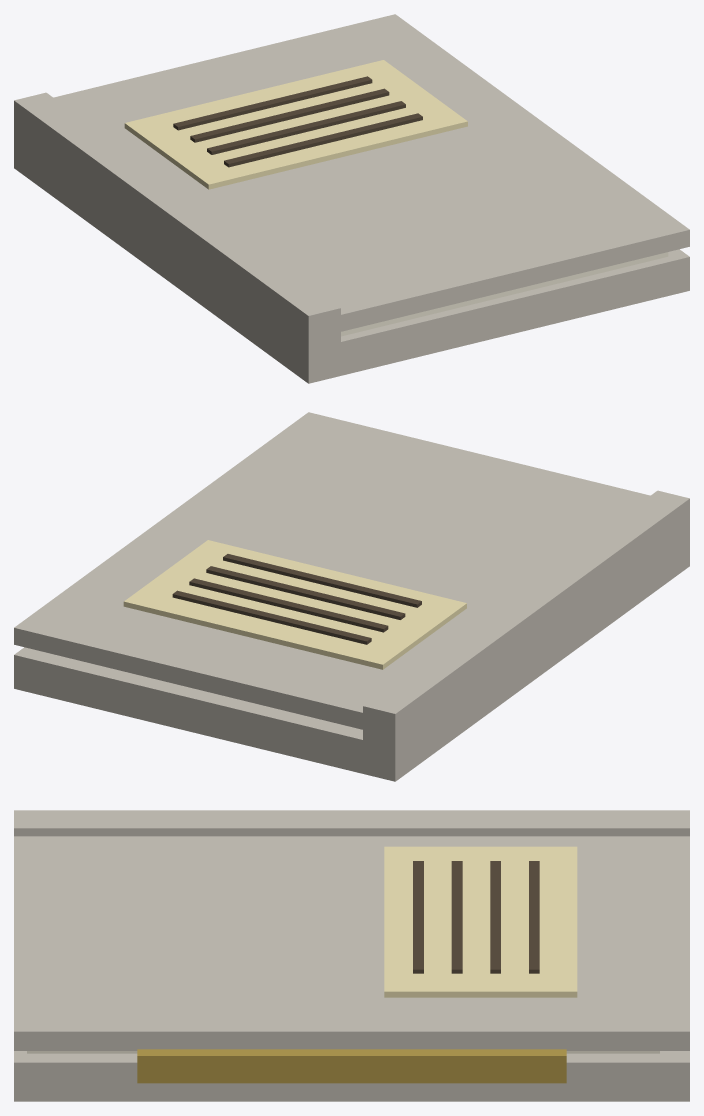
Rendered from folder.glb.
3 renders of one model, top to bottom at view 1: azimuth 30°, elevation 25°; view 2: azimuth 150°, elevation 25°; view 3: azimuth 270°, elevation 25°, orthographic. The views are drawn at different scales.
Parts seen in each view (by area): view 1: folder; view 2: folder; view 3: folder.
Part boxes in pixels (<box>): folder: <box>14,14,689,383</box>; folder: <box>14,412,689,781</box>; folder: <box>14,810,689,1101</box>.
Bounding box in the file's own units: 0.243 × 0.041 × 0.315.
